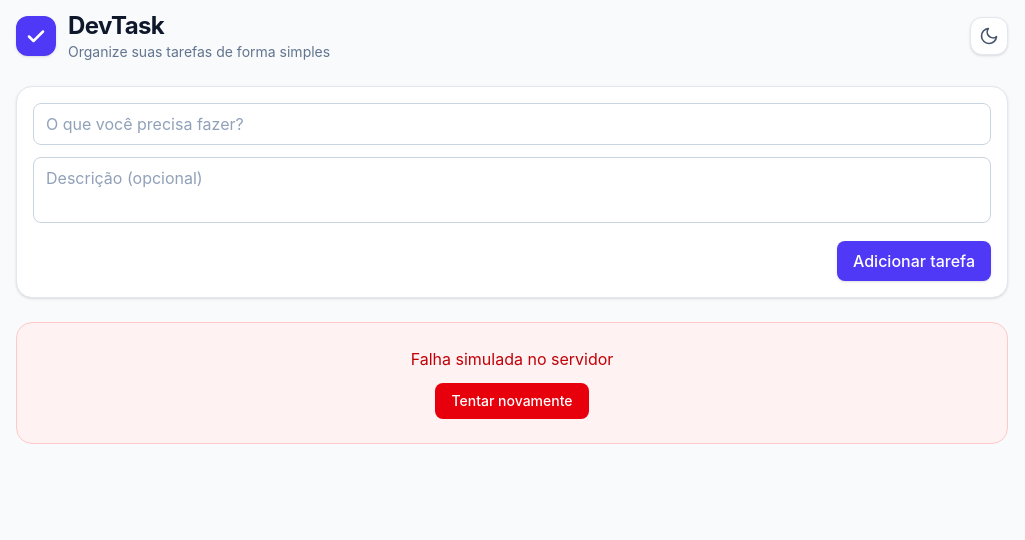
App › mostra a lista completa ao criar uma tarefa depois de falha no carregamento
Check: the text "Falha simulada no servidor" is shown, box [411, 347, 613, 371]
Type "Nova tarefa" into the field named "Título da tarefa". click: x=512, y=124
box: [33, 103, 991, 145]
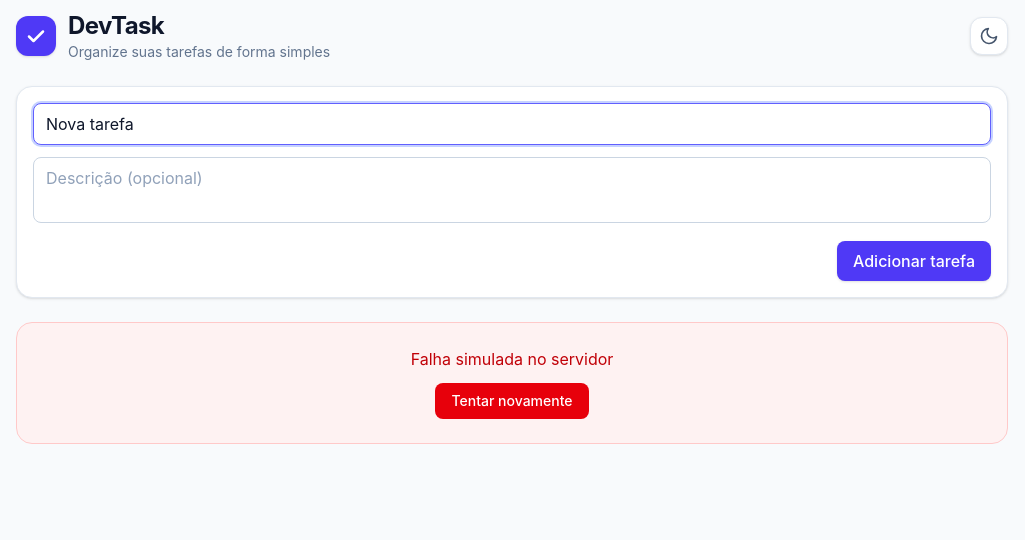
Click the button "Adicionar tarefa". click: x=914, y=261
box: [837, 241, 991, 281]
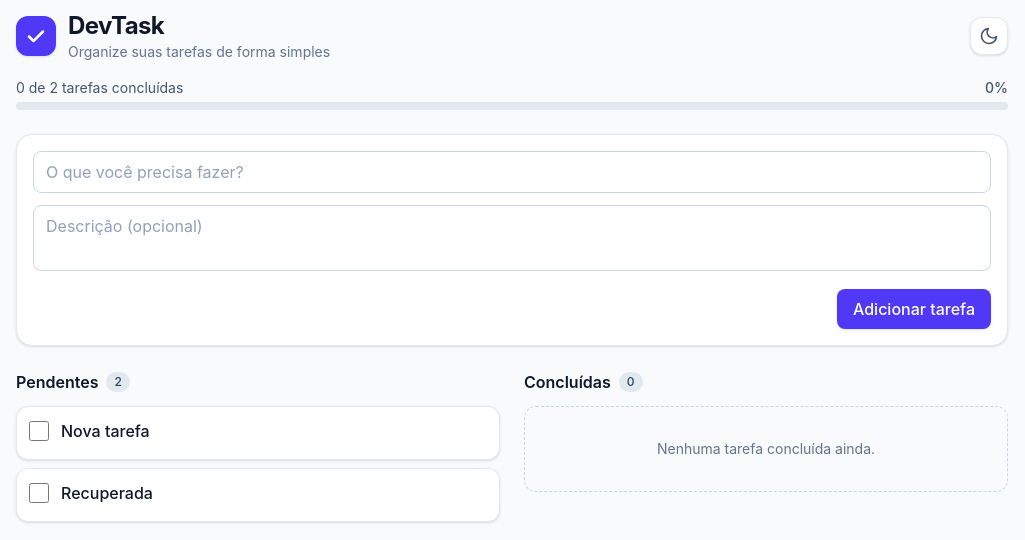
Check: the text "Nova tarefa" is shown, box [61, 421, 150, 441]
Check: the text "Recuperada" is shown, box [61, 483, 153, 503]
Check: the text "Falha simulada no servidor" is gone
